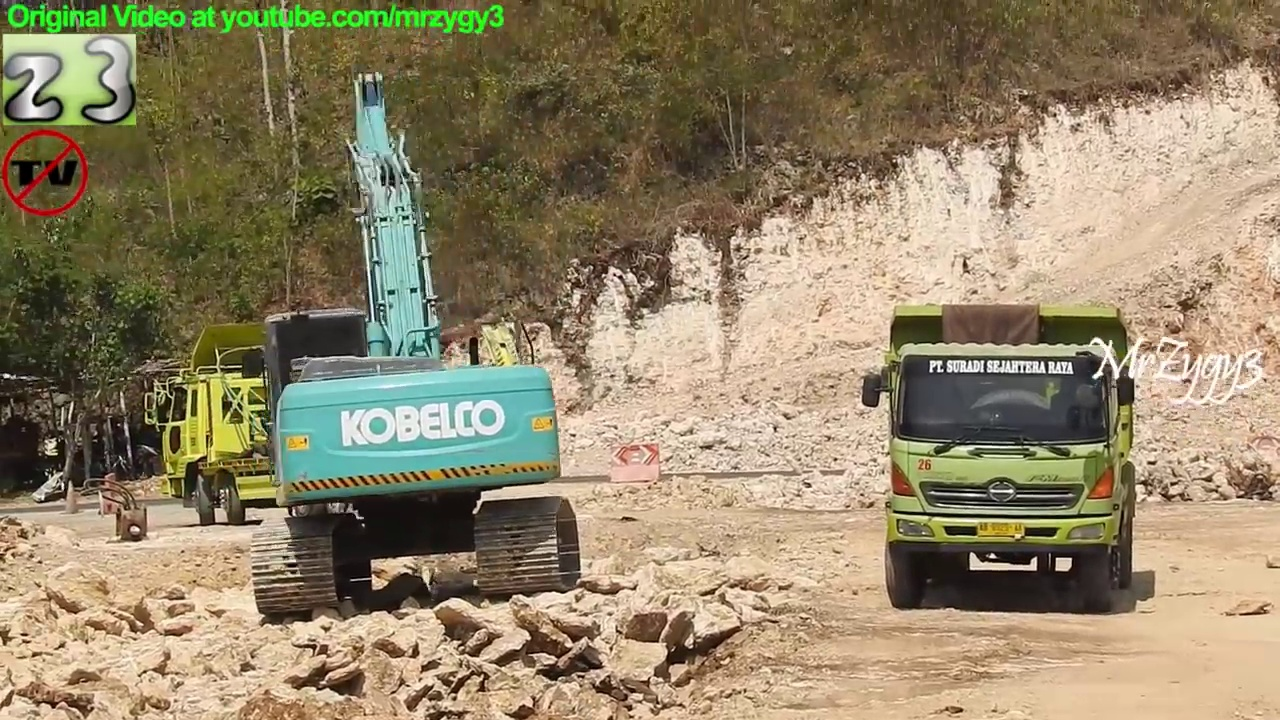excavator: (236, 61, 588, 621)
truck: (860, 298, 1143, 613), (143, 313, 543, 528)
